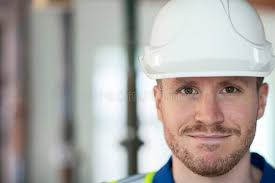Person_wearing_helmet: (144, 0, 274, 109)
